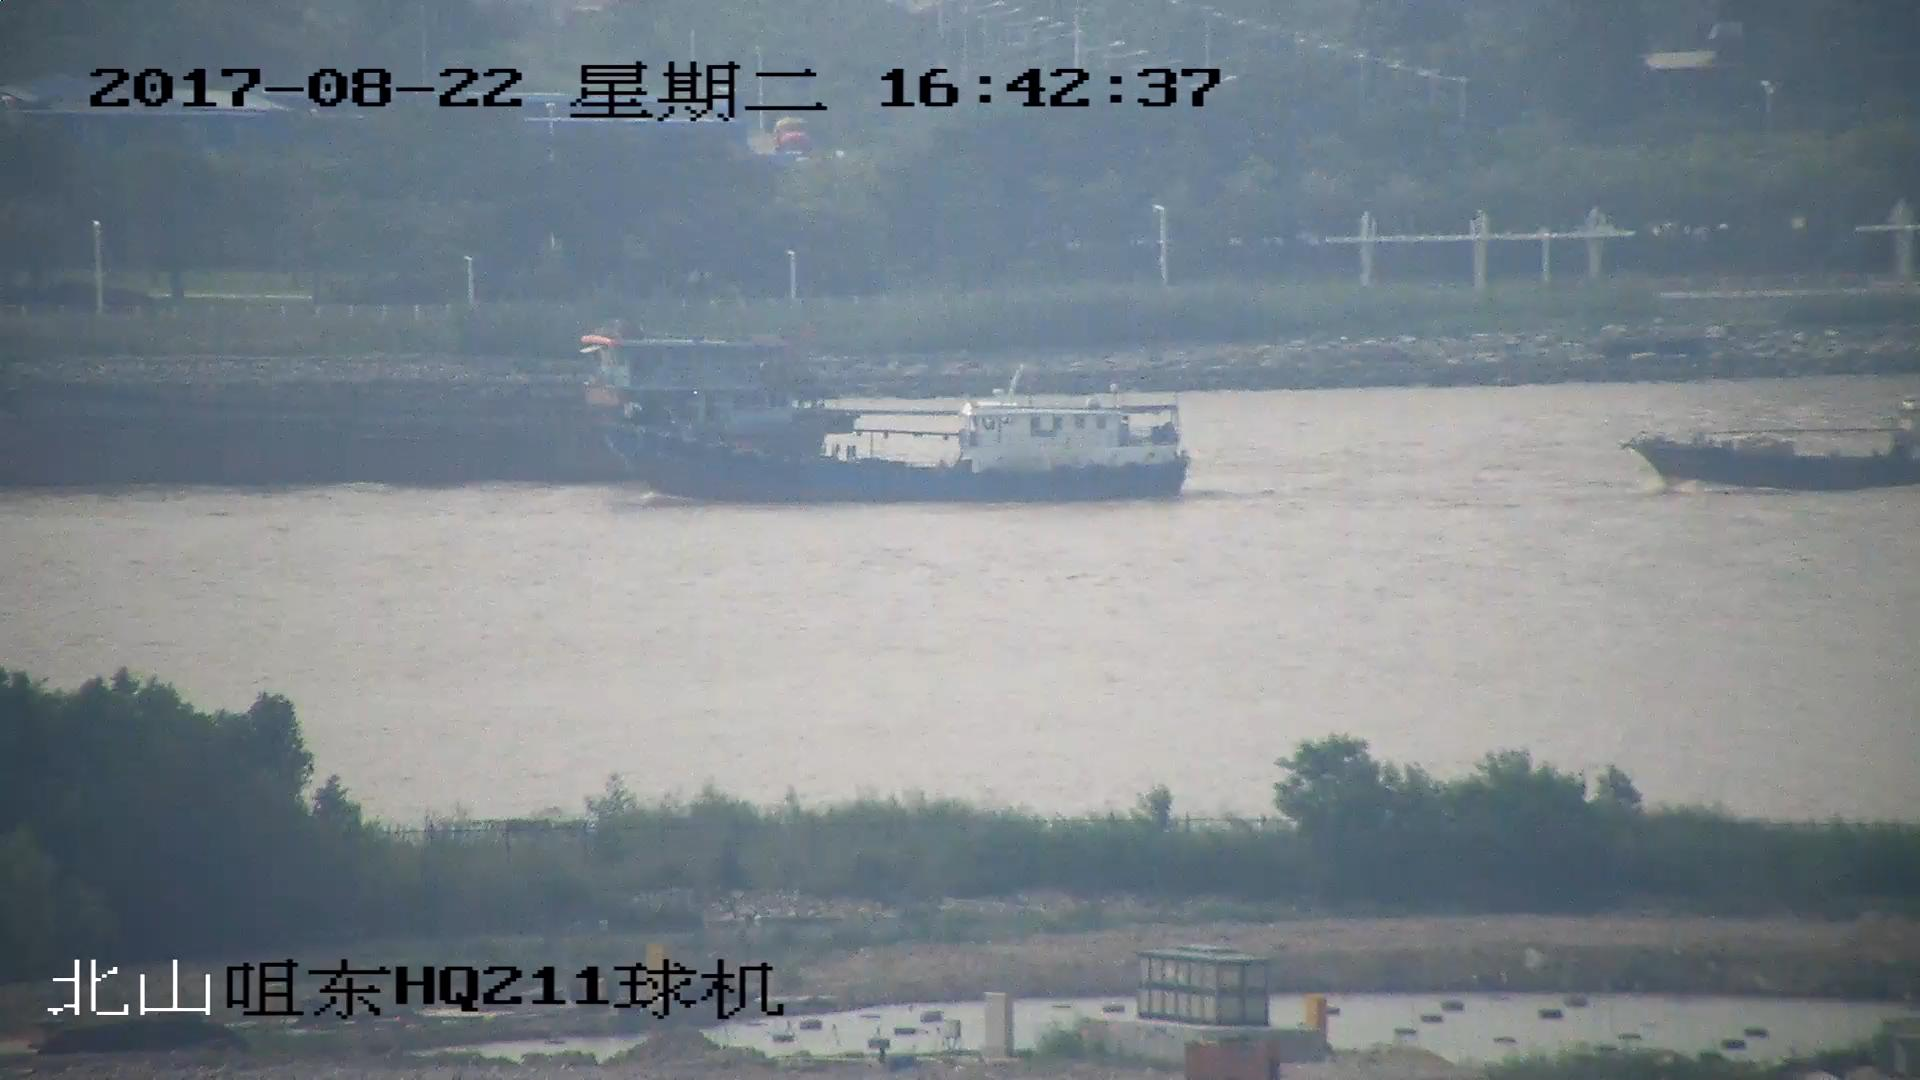bulk cargo carrier: (1, 332, 855, 486)
fishing boat: (597, 390, 1187, 505), (1631, 416, 1920, 493)
